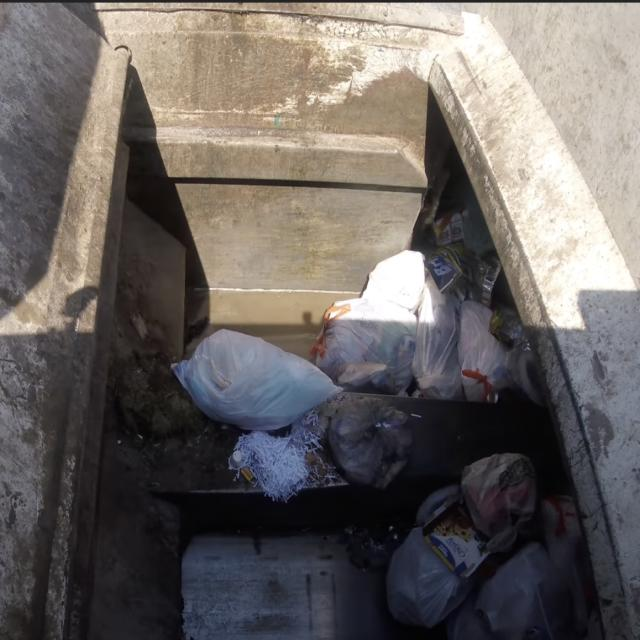bag: (321, 252, 511, 396), (173, 320, 339, 429), (225, 408, 352, 509)
